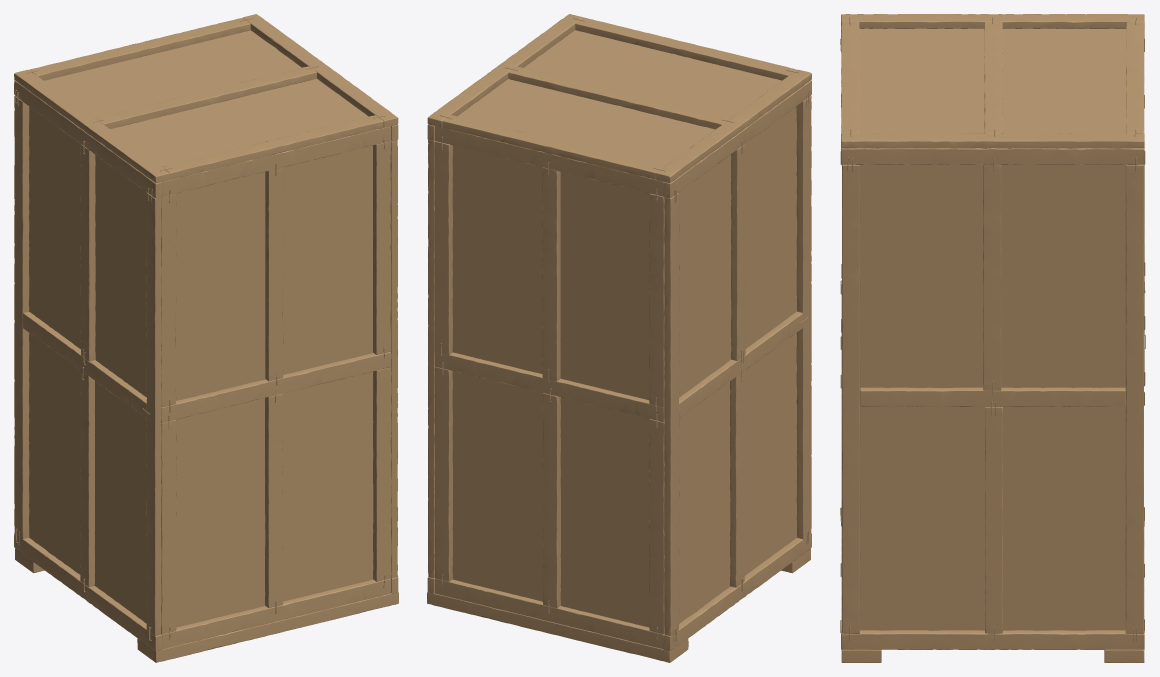
Rendered from crate_plywood_b05.glb.
3 views of the same model, side by side, from view 1: azimuth 30°, elevation 25°; view 2: azimuth 150°, elevation 25°; view 3: azimuth 270°, elevation 25° (orthographic). The views are drawn at different scales.
Size of the model in its own units: 1.01 by 1.91 by 1.01.
